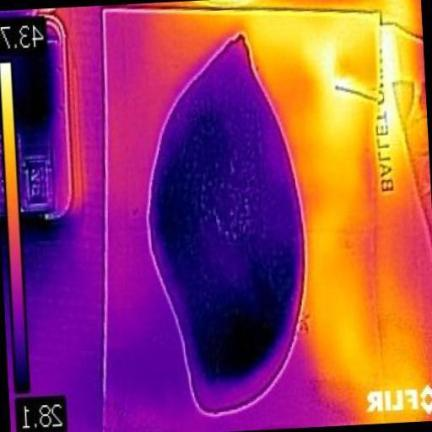mango: (150, 34, 302, 411)
